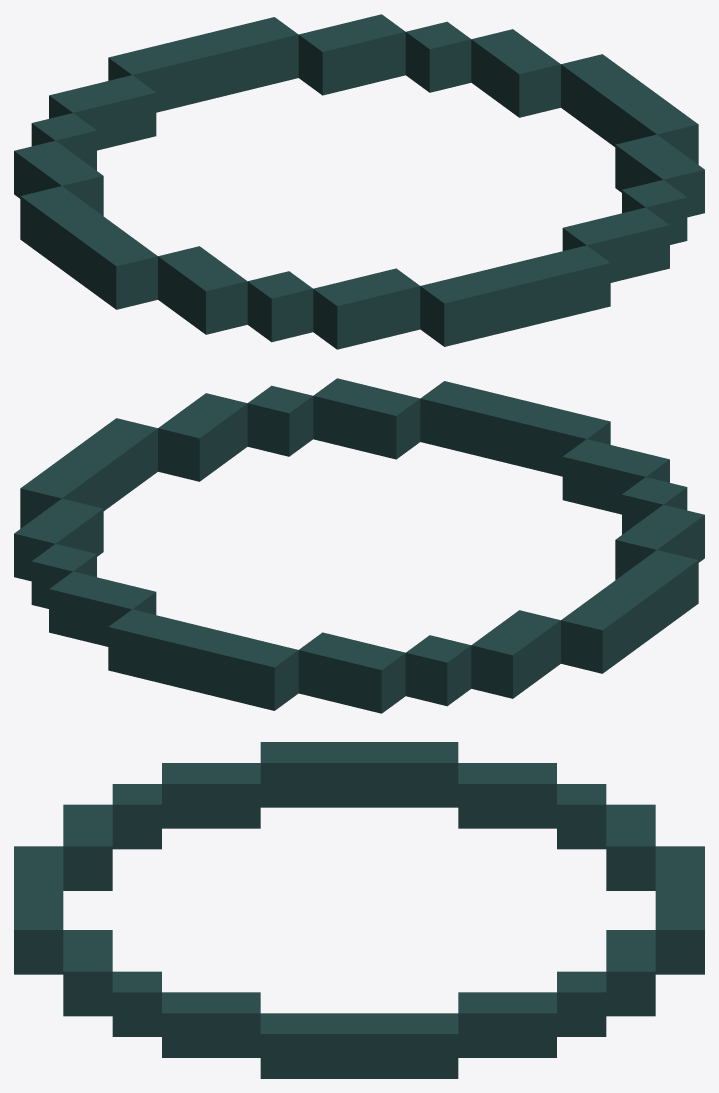
Rendered from Crystal_Ring_2.obj.
3 renders of one model, top to bottom at view 1: azimuth 30°, elevation 25°; view 2: azimuth 150°, elevation 25°; view 3: azimuth 270°, elevation 25°, orthographic. The views are drawn at different scales.
Size of the model in its own units: 0.35 by 0.025 by 0.35.
